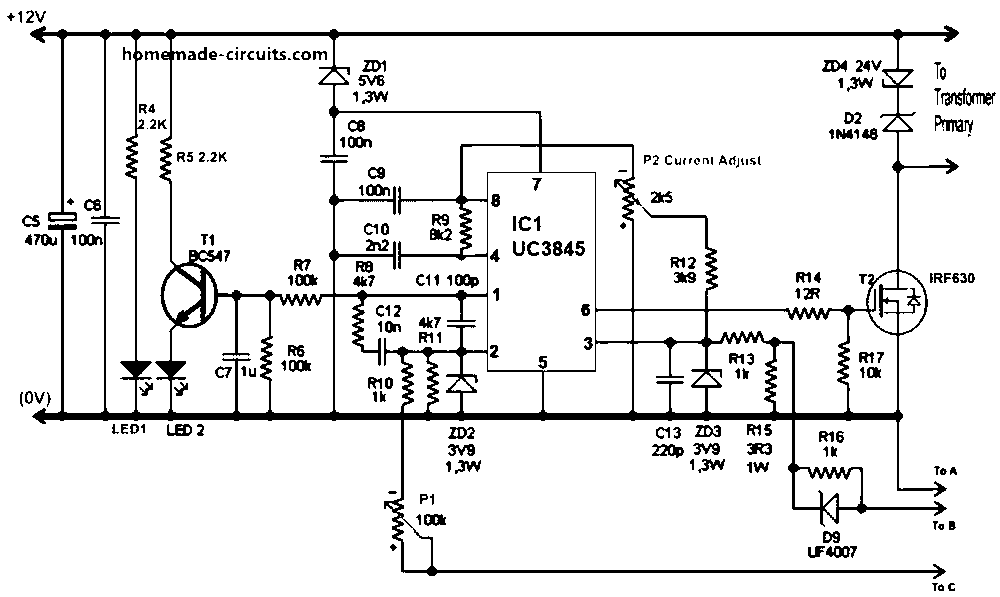C: (309, 145, 363, 179), (87, 191, 122, 239), (42, 201, 79, 241), (441, 309, 481, 339), (389, 177, 414, 224), (385, 233, 409, 275), (370, 326, 391, 372)
D: (870, 98, 931, 148), (810, 483, 853, 537), (115, 348, 159, 393), (686, 360, 734, 397), (313, 60, 356, 95), (157, 341, 186, 389), (443, 368, 486, 400)
Q: (853, 255, 934, 348), (157, 251, 223, 330)
R: (690, 235, 734, 300), (115, 126, 153, 193), (248, 331, 284, 386), (158, 130, 183, 204), (273, 286, 327, 318), (453, 201, 477, 264), (715, 329, 769, 353), (759, 355, 782, 409)
U: (476, 161, 608, 391)
